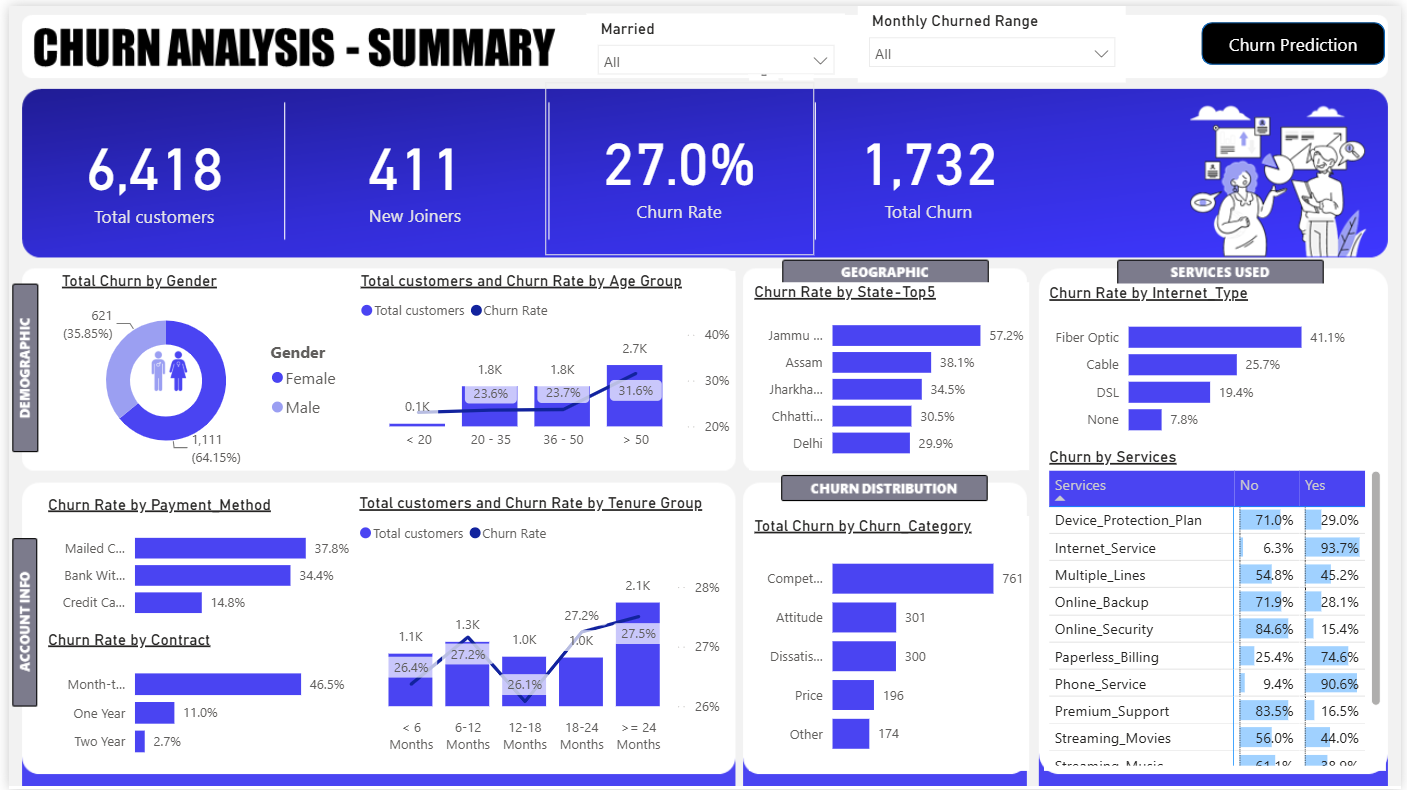

The page's visual inventory and layout, read from the dashboard file:
{"tool":"powerbi","page":{"name":"Summary","canvas":[1280,720],"ordinal":0},"visuals":[{"type":"image","box":[99.7,312.1,94.9,47.5],"z":0},{"type":"card","fields":{"Values":["tbl_measures.total customers"]},"box":[12.3,78.2,242.3,153],"z":1000},{"type":"card","fields":{"Values":["tbl_measures.New Joiners"]},"box":[254.6,78.2,239,151.9],"z":2000},{"type":"card","fields":{"Values":["tbl_measures.Churn Rate"]},"box":[493.6,70.3,246.8,159.7],"z":3000},{"type":"card","fields":{"Values":["tbl_measures.Total Churn"]},"box":[740.3,70.3,211,159.7],"z":4000},{"type":"donutChart","fields":{"Category":["prod_Churn.Gender"],"Y":["tbl_measures.Total Churn"]},"box":[43.9,243.2,272.9,185.1],"z":5000},{"type":"lineStackedColumnComboChart","title":"Total customers and Churn Rate by Age Group","fields":{"Category":["mapping_agegrp.Age Group"],"Y":["tbl_measures.total customers"],"Y2":["tbl_measures.Churn Rate"]},"box":[318.2,243.4,349.5,173.1],"z":6000},{"type":"clusteredBarChart","fields":{"Category":["prod_Churn.Payment_Method"],"Y":["tbl_measures.Churn Rate"]},"box":[31.3,448.9,287,125.1],"z":7000},{"type":"clusteredBarChart","fields":{"Category":["prod_Churn.Contract"],"Y":["tbl_measures.Churn Rate"]},"box":[31.3,573.9,287,129.5],"z":8000},{"type":"lineStackedColumnComboChart","fields":{"Category":["mapping_tenuregrp.Tenure Group"],"Y":["tbl_measures.total customers"],"Y2":["tbl_measures.Churn Rate"]},"box":[316.8,448.5,341.7,246.8],"z":9000},{"type":"clusteredBarChart","title":"Churn Rate by State-Top5","fields":{"Category":["prod_Churn.State"],"Y":["tbl_measures.Churn Rate"]},"box":[680,254.6,257.9,173.1],"z":10000},{"type":"clusteredBarChart","fields":{"Y":["tbl_measures.Total Churn"],"Category":["prod_Churn.Churn_Category"]},"box":[680,469,257.9,234.5],"z":11000},{"type":"pivotTable","title":"Churn by Services","fields":{"Rows":["prod_services.Services"],"Columns":["prod_services.Status"],"Values":["Sum(prod_services.Churn Status)"]},"box":[951.6,405.8,314.4,297.8],"z":12000},{"type":"slicer","fields":{"Values":["prod_Churn.Monthly Churned Status"]},"box":[780.5,0,246.8,70.3],"z":13000},{"type":"slicer","fields":{"Values":["prod_Churn.Married"]},"box":[531.5,6.7,237.8,55.8],"z":14000},{"type":"clusteredBarChart","fields":{"Y":["tbl_measures.Churn Rate"],"Category":["prod_Churn.Internet_Type"]},"box":[951.2,254.7,315.1,151.2],"z":15000},{"type":"shape","box":[1096.5,15.1,168.7,39.2],"z":15001}]}

Visuals, with their boxes in screenshot pixels (x1, y1, x2, y2), scaled from the page's 1280x720 canvas onto the 1407x790 screenshot:
image: x1=110, y1=342, x2=214, y2=395
card - tbl_measures.total customers: x1=14, y1=86, x2=280, y2=254
card - tbl_measures.New Joiners: x1=280, y1=86, x2=543, y2=252
card - tbl_measures.Churn Rate: x1=543, y1=77, x2=814, y2=252
card - tbl_measures.Total Churn: x1=814, y1=77, x2=1046, y2=252
donutChart - prod_Churn.Gender x tbl_measures.Total Churn: x1=48, y1=267, x2=348, y2=470
"Total customers and Churn Rate by Age Group" lineStackedColumnComboChart: x1=350, y1=267, x2=734, y2=457
clusteredBarChart - prod_Churn.Payment_Method x tbl_measures.Churn Rate: x1=34, y1=493, x2=350, y2=630
clusteredBarChart - prod_Churn.Contract x tbl_measures.Churn Rate: x1=34, y1=630, x2=350, y2=772
lineStackedColumnComboChart - mapping_tenuregrp.Tenure Group x tbl_measures.total customers: x1=348, y1=492, x2=724, y2=763
"Churn Rate by State-Top5" clusteredBarChart: x1=747, y1=279, x2=1031, y2=469
clusteredBarChart - tbl_measures.Total Churn x prod_Churn.Churn_Category: x1=747, y1=515, x2=1031, y2=772
"Churn by Services" pivotTable: x1=1046, y1=445, x2=1392, y2=772
slicer - prod_Churn.Monthly Churned Status: x1=858, y1=0, x2=1129, y2=77
slicer - prod_Churn.Married: x1=584, y1=7, x2=846, y2=69
clusteredBarChart - tbl_measures.Churn Rate x prod_Churn.Internet_Type: x1=1046, y1=279, x2=1392, y2=445
shape: x1=1205, y1=17, x2=1391, y2=60
